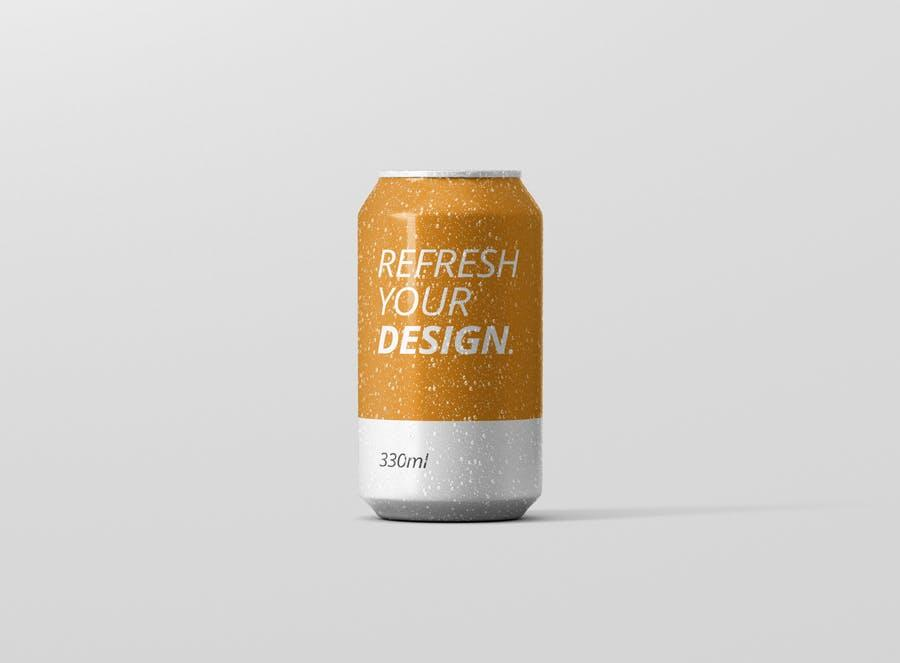metal: (359, 171, 541, 521)
